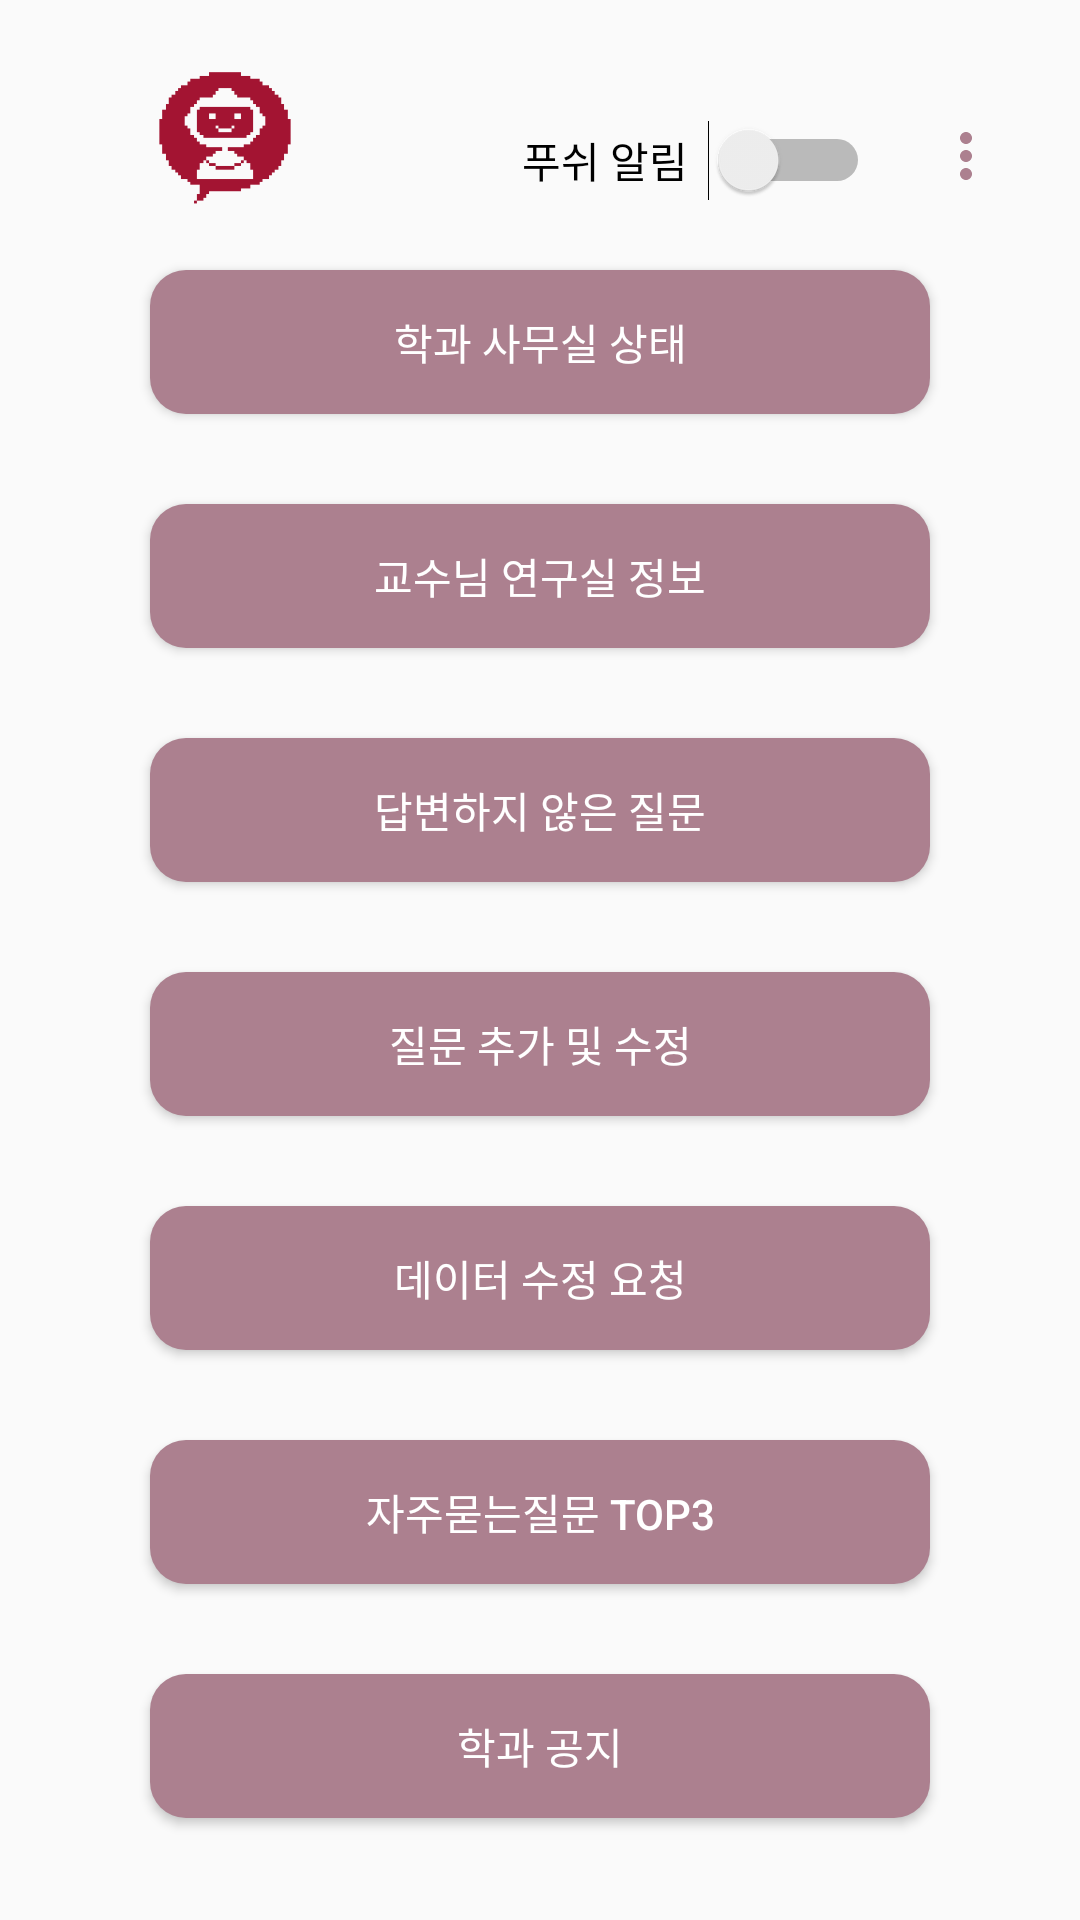

Where to tap for icons on this 1080px x 1920px app screen, as [x,y]:
more vert menu: [966,156]
